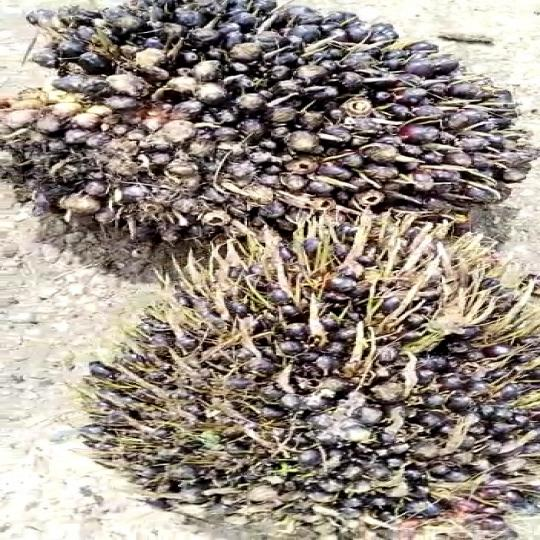mentah: (68, 223, 540, 534), (1, 0, 540, 253)
